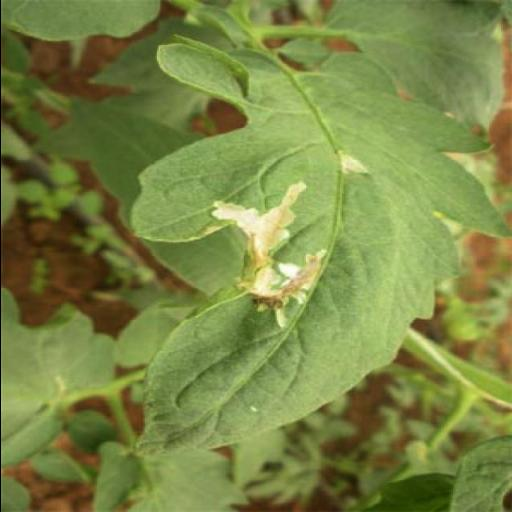disease_tomato: (133, 39, 512, 461)
